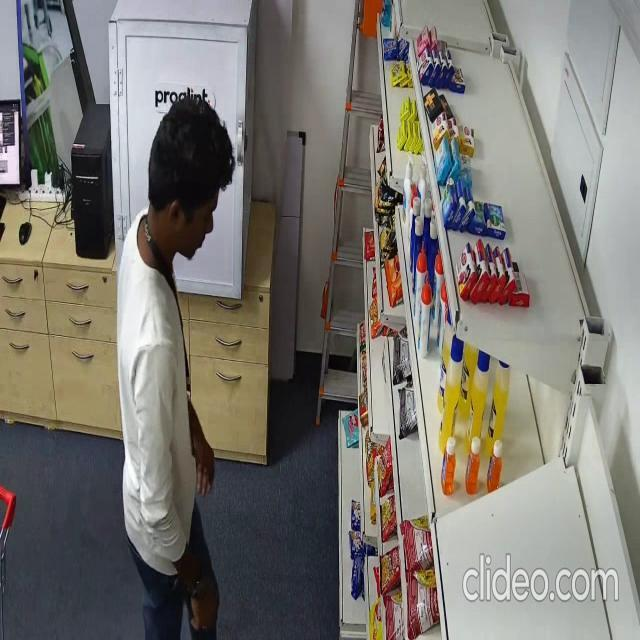normal: (115, 96, 235, 640)
